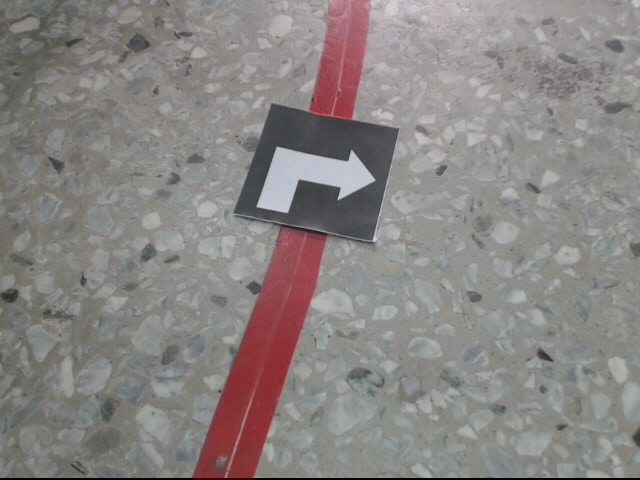right: (237, 103, 401, 246)
